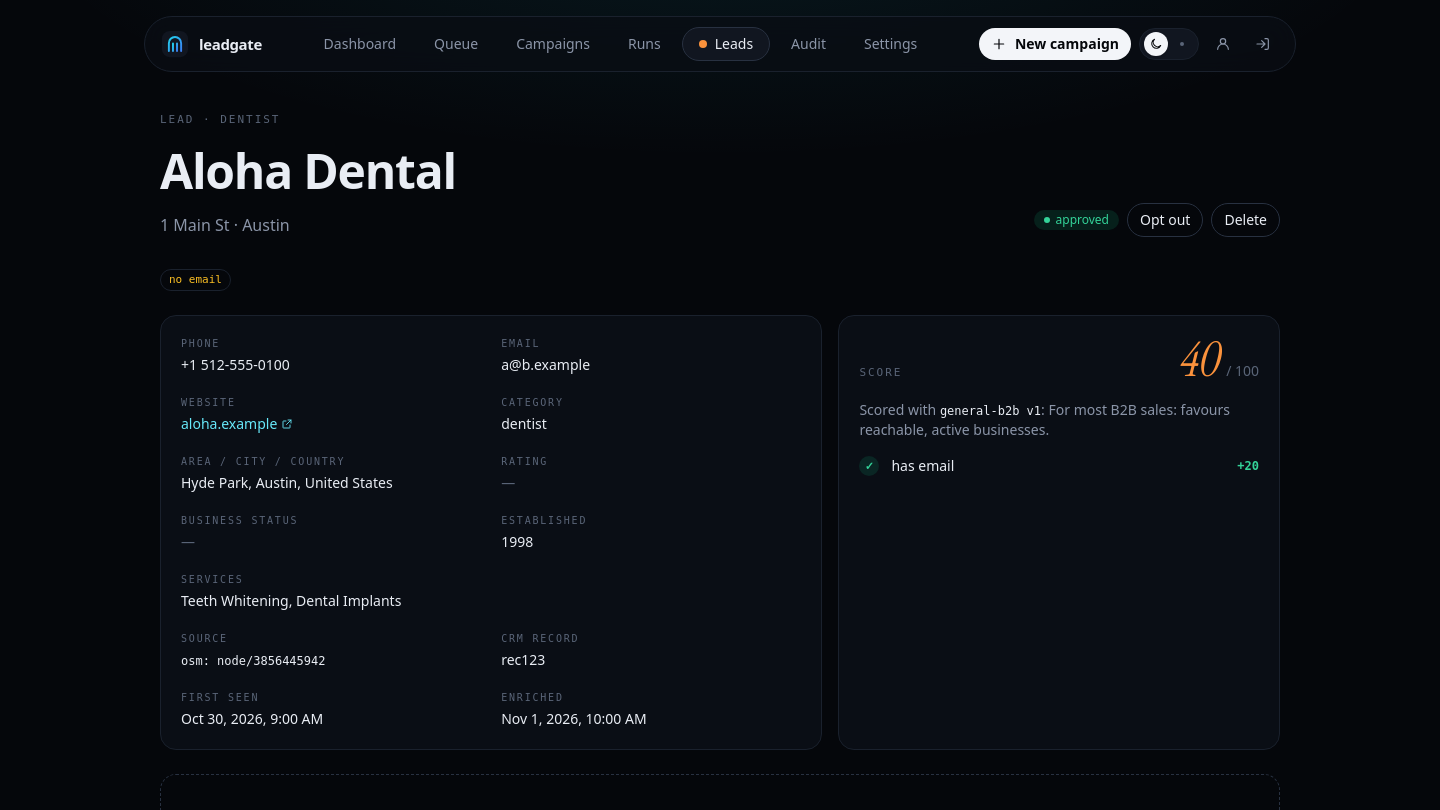
Test: LeadPage › opts the lead out after asking, then shows it opted out
The width and height of the screenshot is (1440, 810).
Click the button "Opt out" at (1165, 220), box 1127,202 -> 1203,236
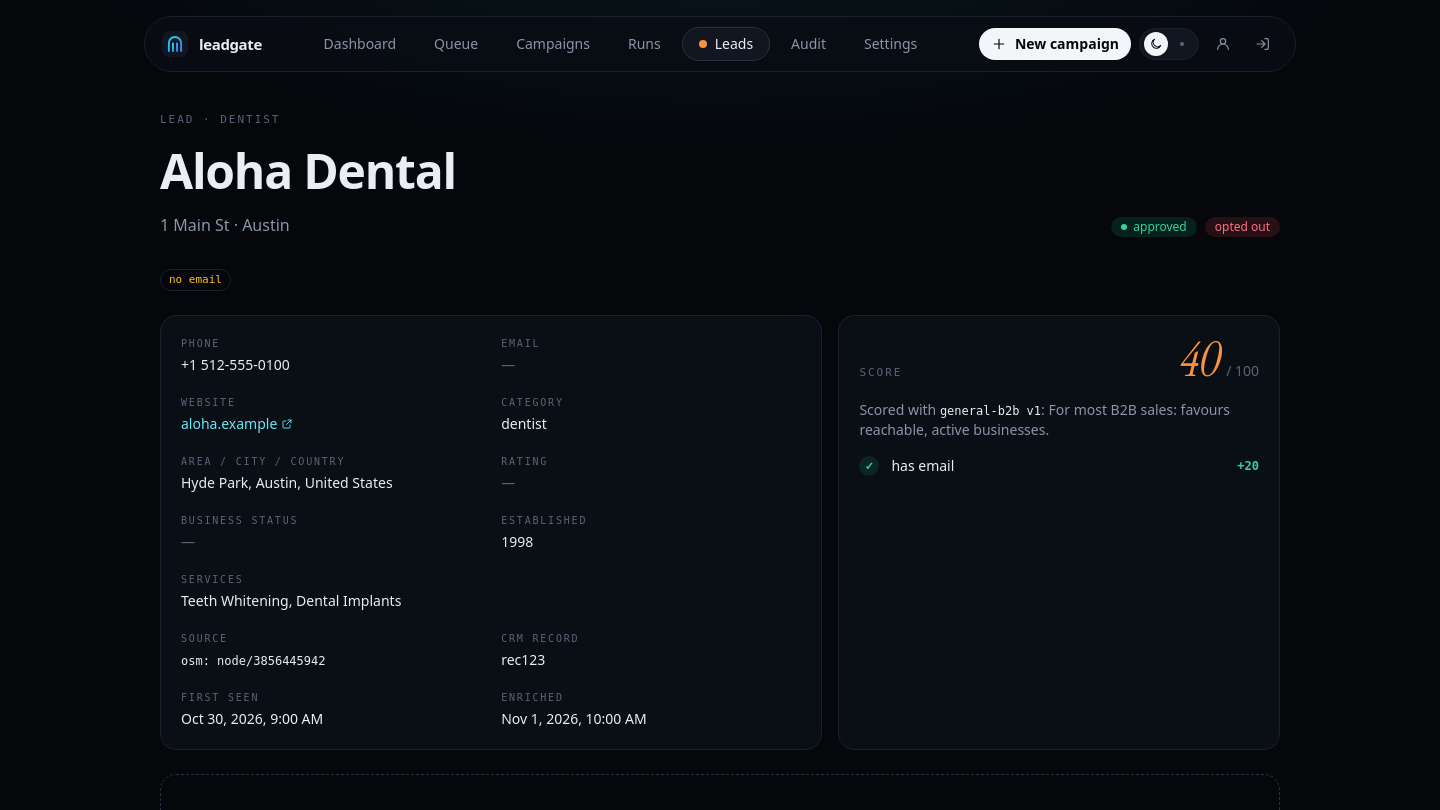
Result: the text "opted out" is shown at 1205,216 -> 1280,236
Result: the button "Opt out" is gone
Result: the button "Delete" is gone
